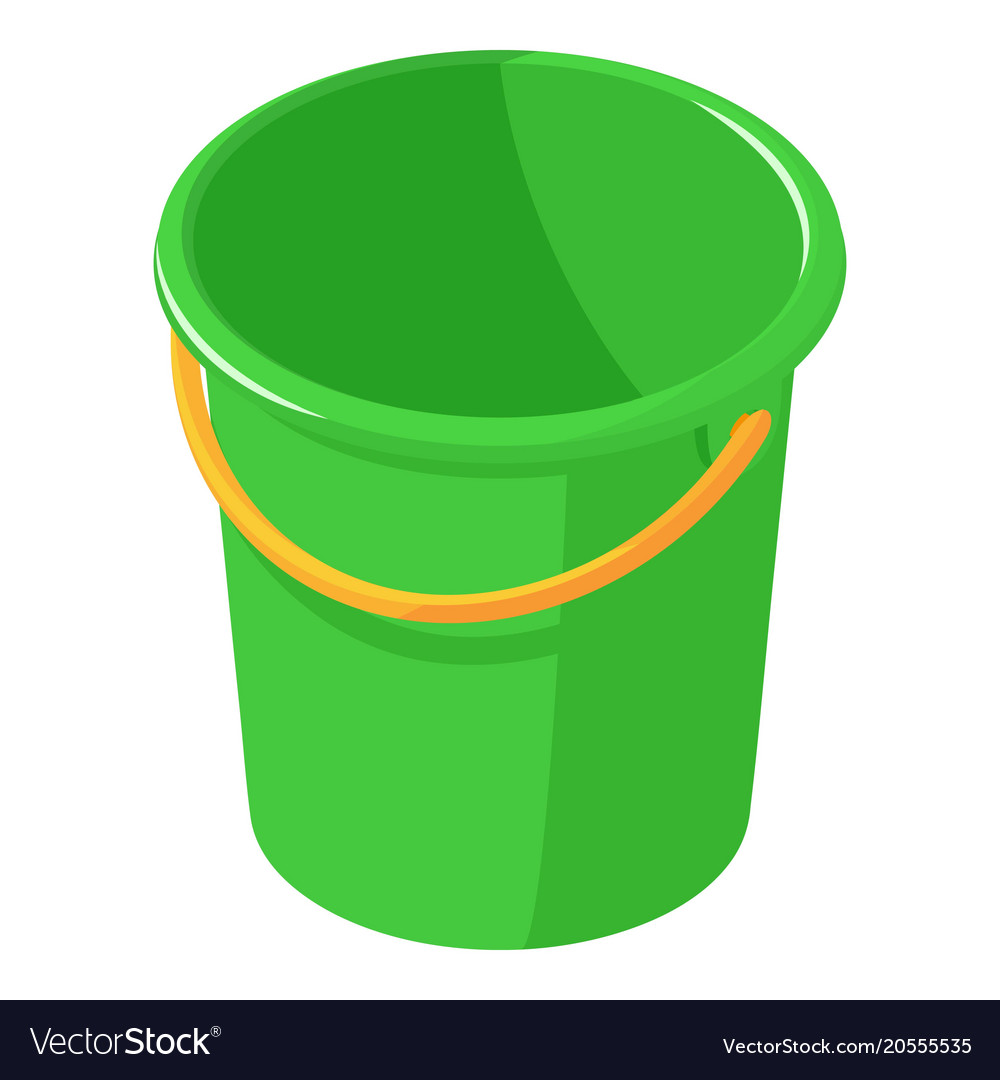Rec_Plastic: (146, 50, 860, 956)
